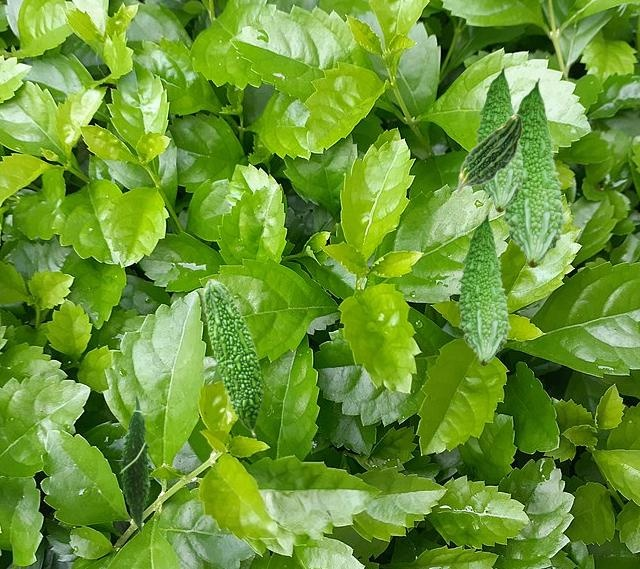ampalaya: (501, 77, 567, 268), (203, 278, 265, 437), (455, 210, 511, 366), (474, 64, 526, 213), (455, 113, 523, 194), (117, 394, 154, 534)
